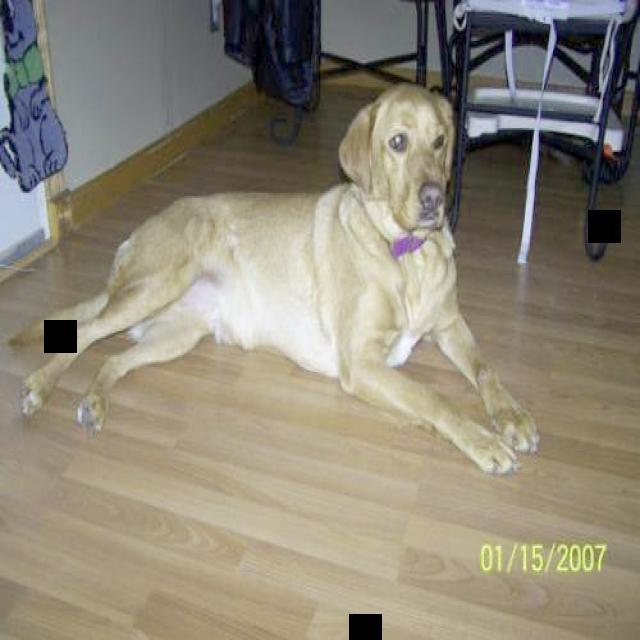adult_dog: (7, 85, 537, 479)
